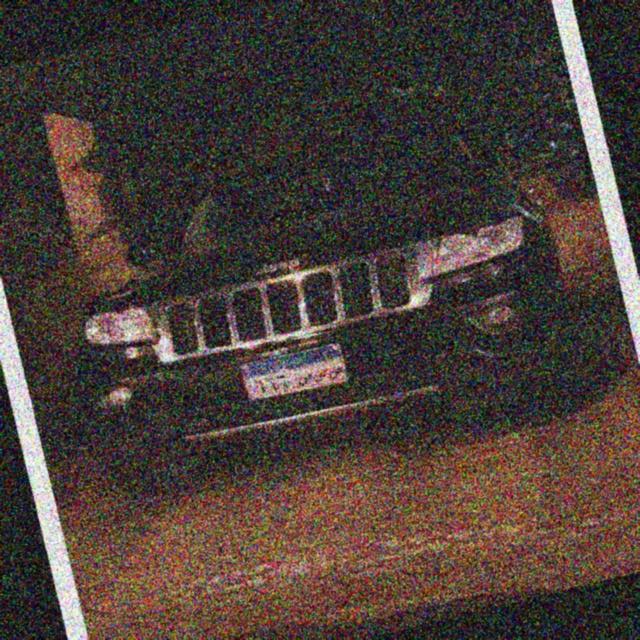License Plate: (236, 338, 353, 409)
